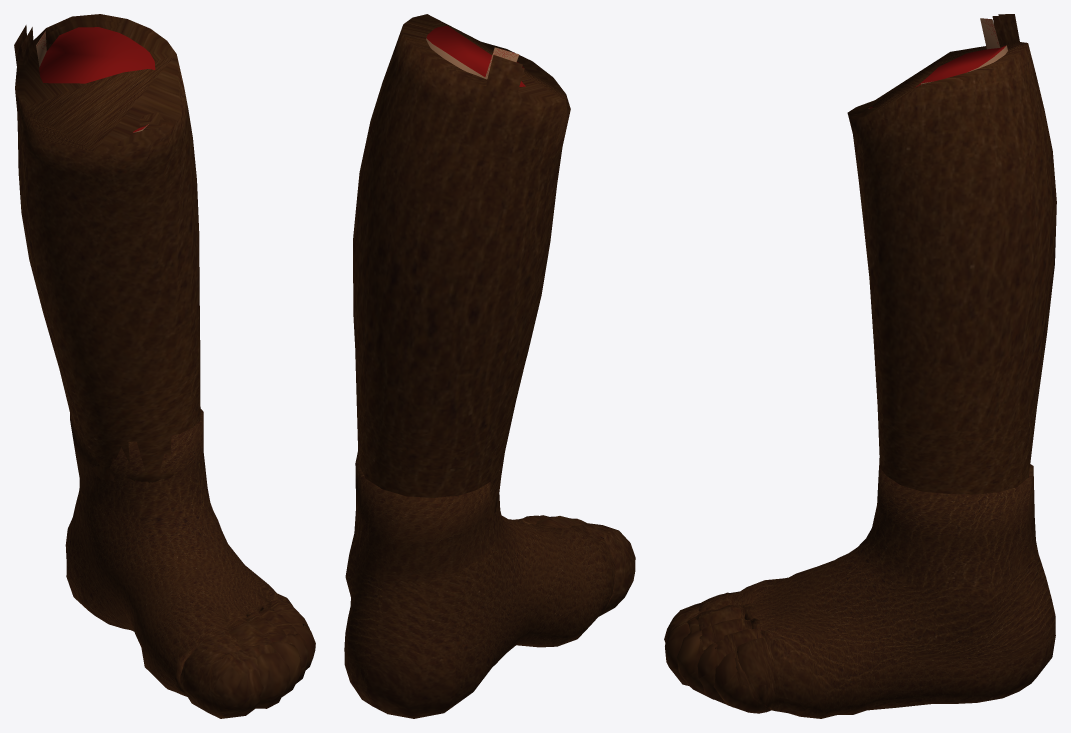
The model's file is SM_Part_M3_leg_l.gltf.
3 renders of one model, left to right at view 1: azimuth 30°, elevation 25°; view 2: azimuth 150°, elevation 25°; view 3: azimuth 270°, elevation 25°, orthographic. The views are drawn at different scales.
Parts seen in each view (by area): view 1: SM_Part_M3_leg_l; view 2: SM_Part_M3_leg_l; view 3: SM_Part_M3_leg_l.
Boxes of the visible parts, x1,y1,x2,y2 form: SM_Part_M3_leg_l: (14,14,315,718); SM_Part_M3_leg_l: (344,14,635,718); SM_Part_M3_leg_l: (664,14,1056,718).
Size of the model in its own units: 0.1811 by 0.526 by 0.2941.
Materials: 4 (2 with a texture image).
